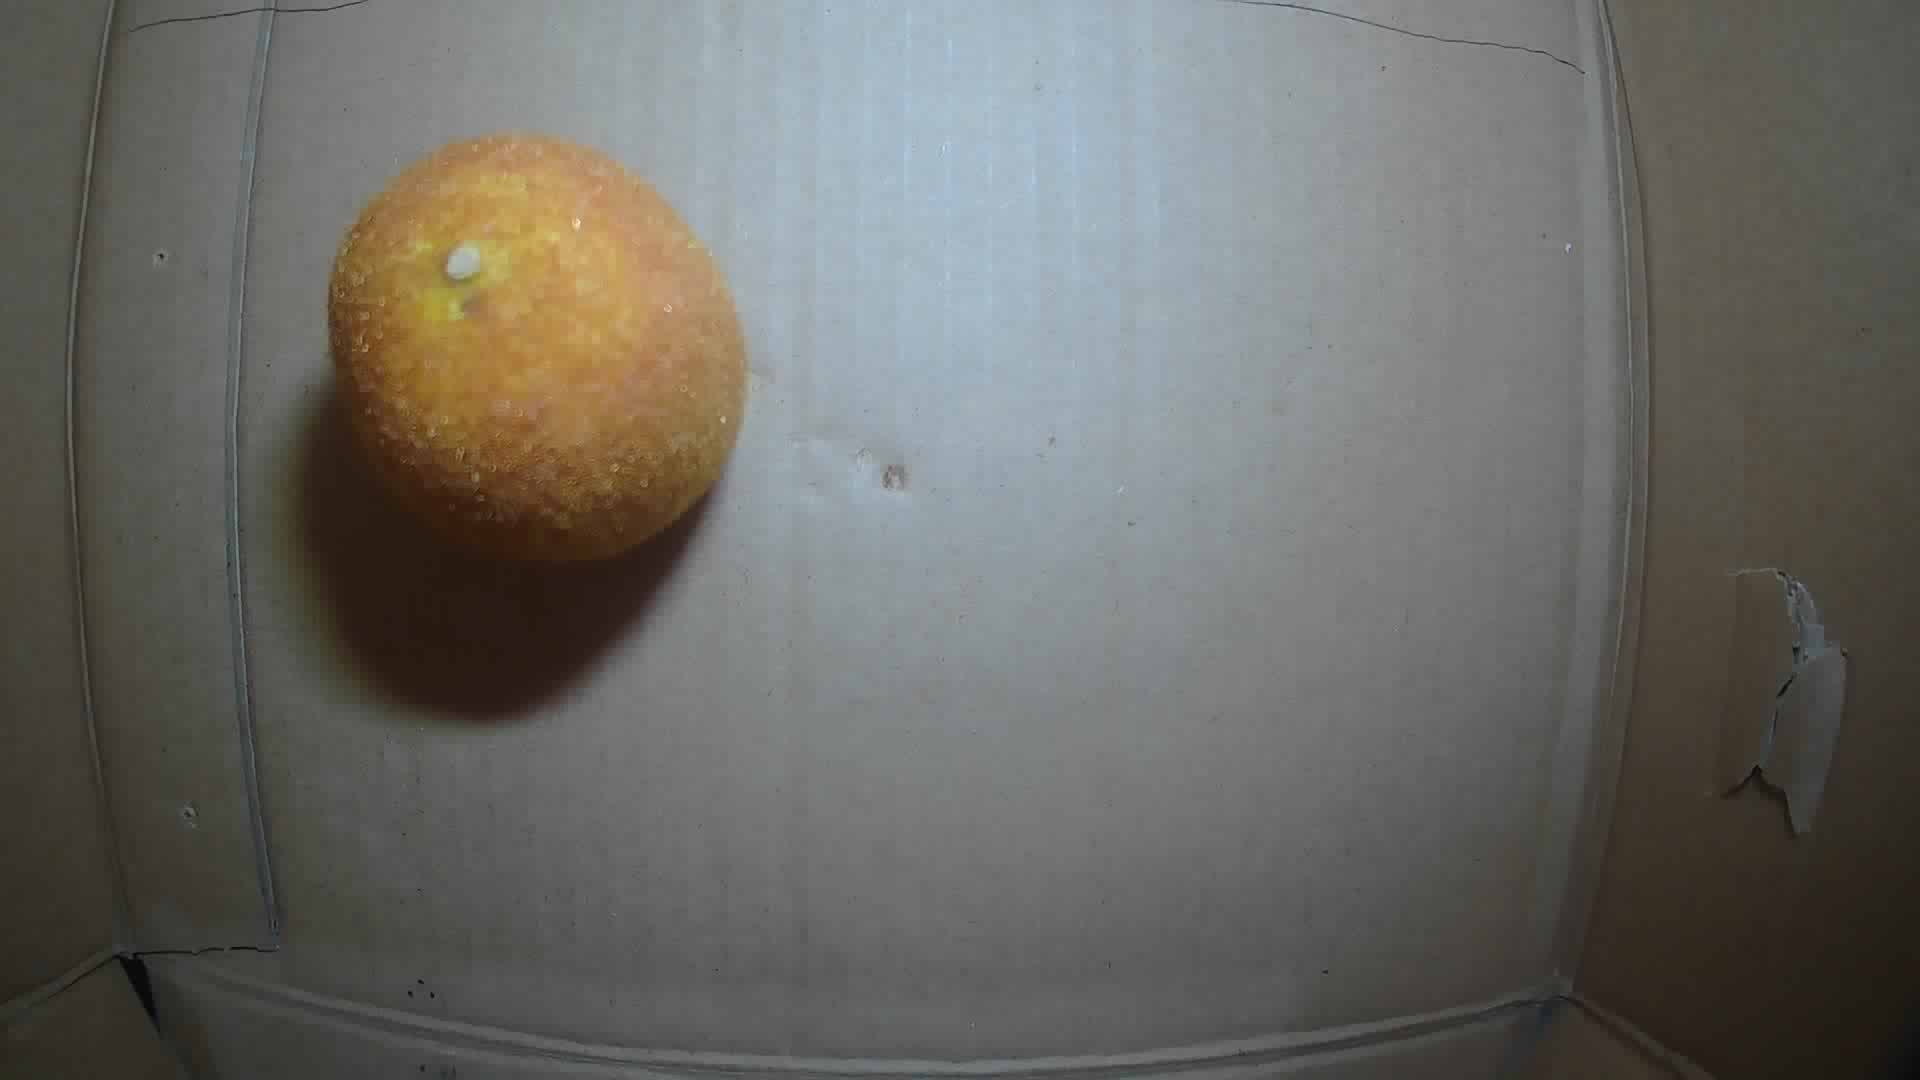kiwi: (326, 136, 750, 562)
